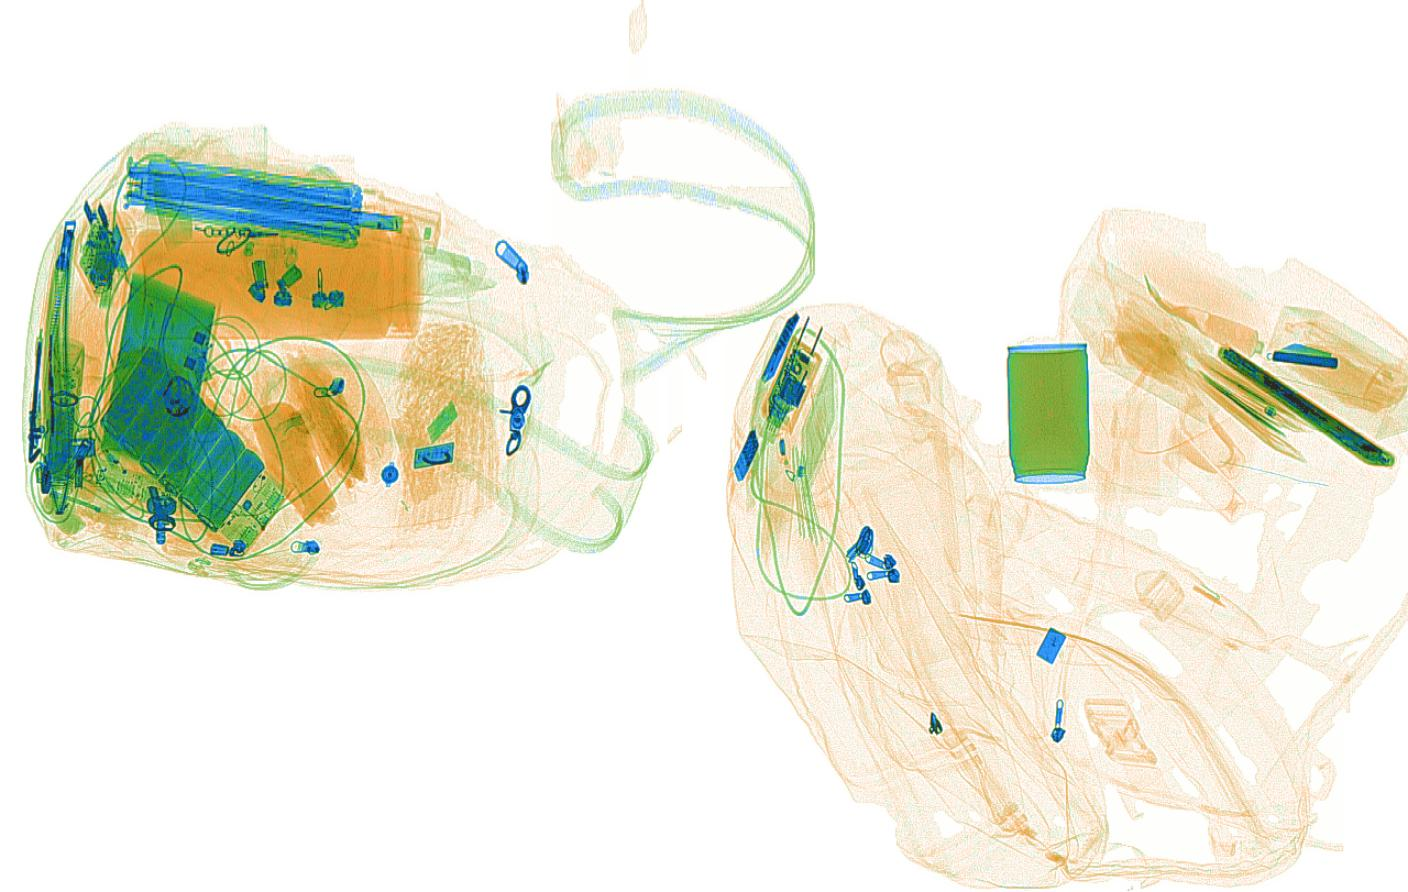battery: (95, 342, 286, 558), (47, 399, 77, 484)
knife: (1264, 340, 1340, 369)
